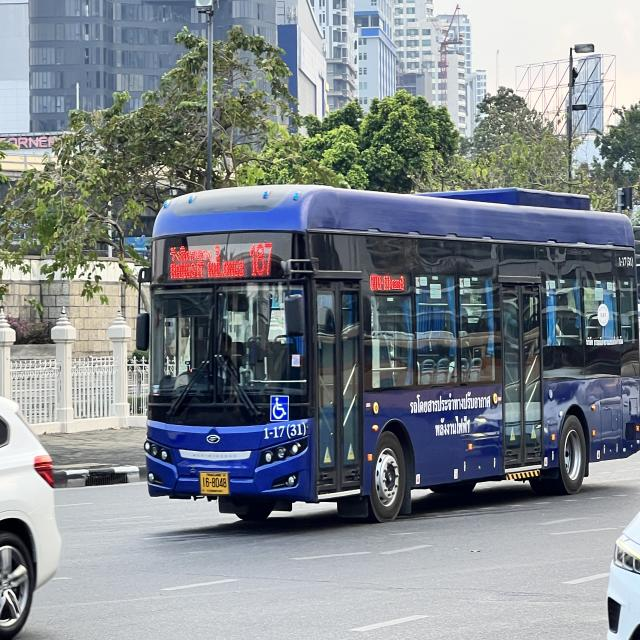Bus Line Number: (247, 240, 276, 281)
Bus Side Number: (262, 422, 310, 442)
Destination Sign: (165, 243, 247, 280)
TSB-Bus: (143, 185, 640, 523)
